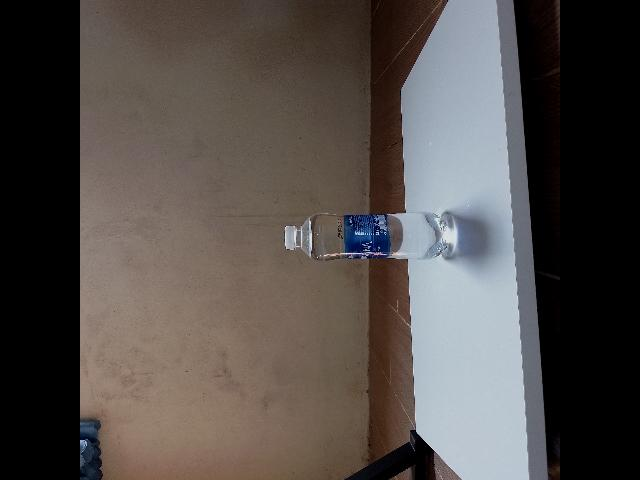aquafina: (285, 211, 450, 260)
